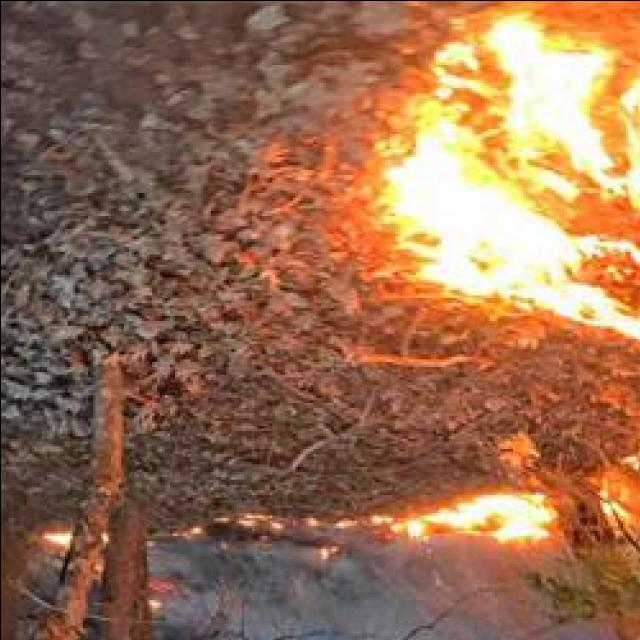fire: (401, 22, 592, 286), (388, 492, 548, 546)
